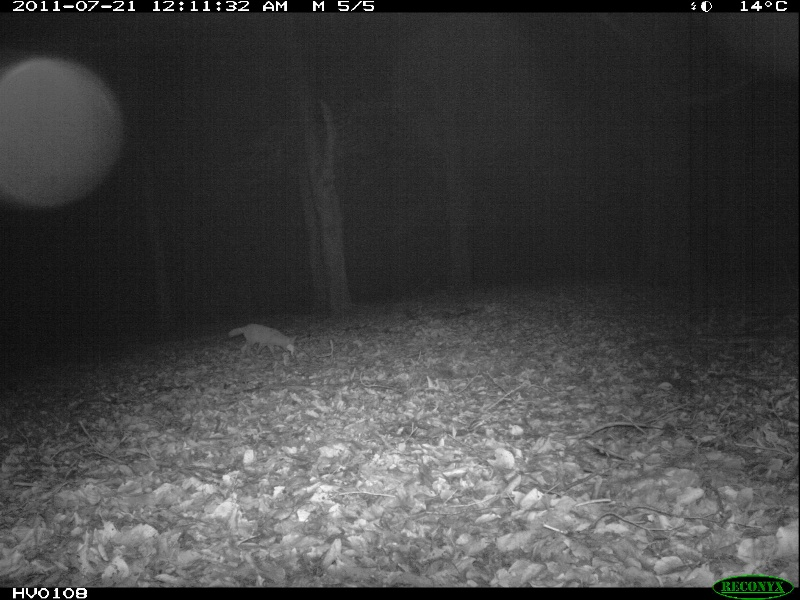fox: (224, 318, 297, 358)
